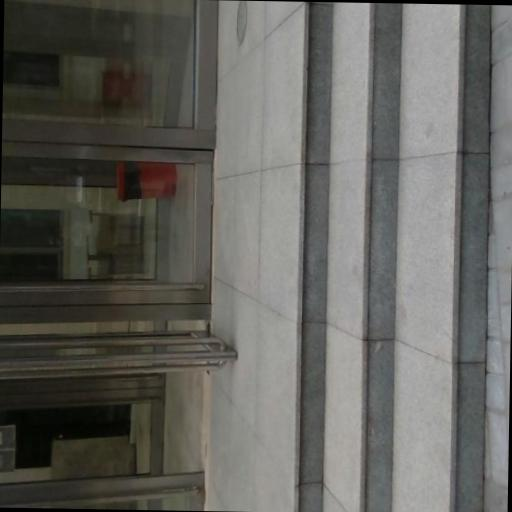stairs: (301, 2, 489, 511)
